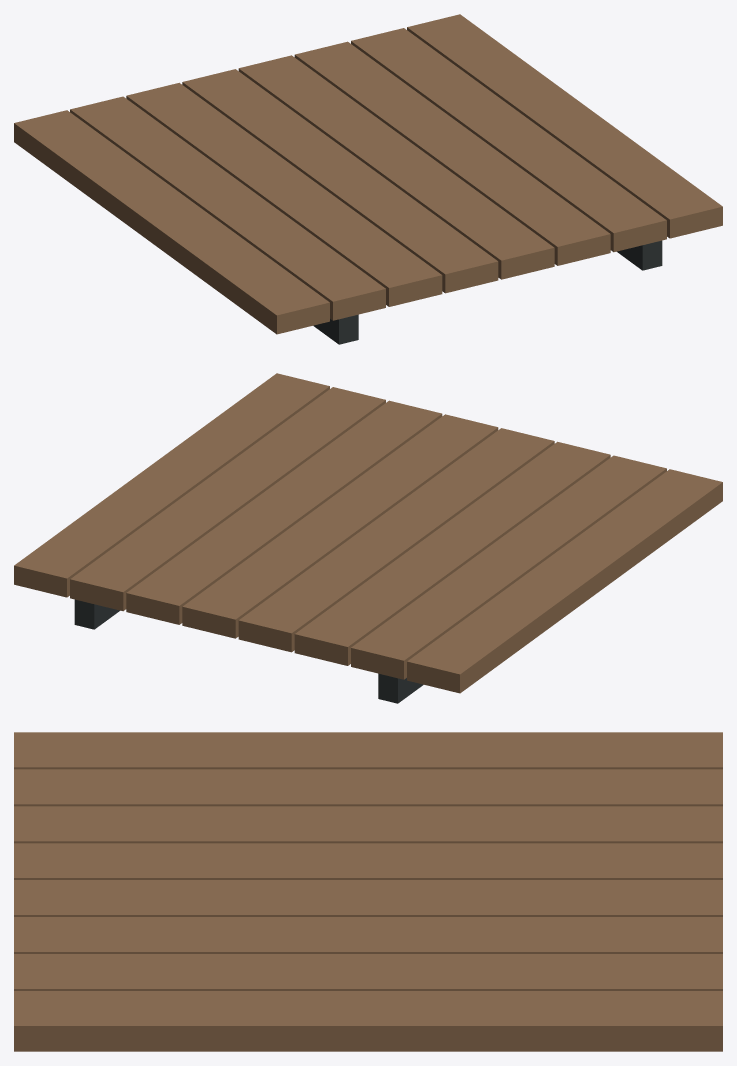
File: floor.glb
3 renders of one model, top to bottom at view 1: azimuth 30°, elevation 25°; view 2: azimuth 150°, elevation 25°; view 3: azimuth 270°, elevation 25°, orthographic. The views are drawn at different scales.
Parts seen in each view (by area): view 1: Дощатый настил; view 2: Дощатый настил; view 3: Дощатый настил.
Part boxes in pixels (bbox=[...]): Дощатый настил: bbox=[14, 14, 722, 344]; Дощатый настил: bbox=[14, 373, 722, 703]; Дощатый настил: bbox=[14, 732, 722, 1051].
Bounding box in the file's own units: 2.94 × 0.28 × 3.
